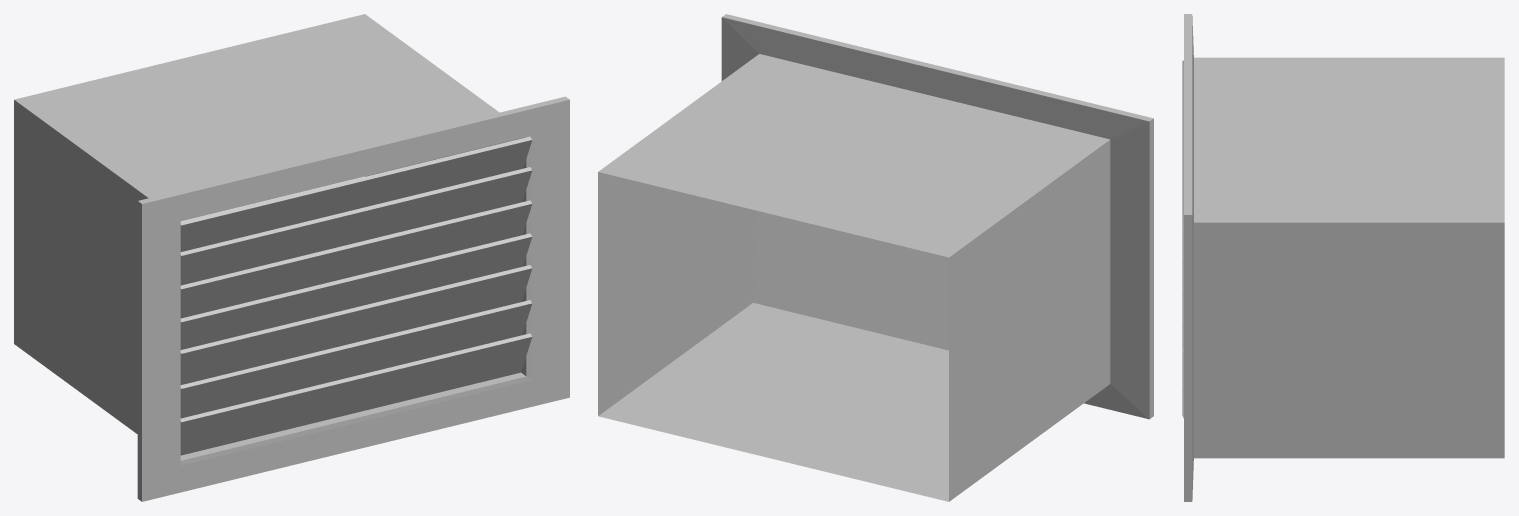
File: SM_Airing_01.FBX
The picture shows the model from 3 angles, left to right: view 1: azimuth 30°, elevation 25°; view 2: azimuth 150°, elevation 25°; view 3: azimuth 270°, elevation 25°; orthographic projection. The views are drawn at different scales.
Parts seen in each view (by area): view 1: SM_Airing_01; view 2: SM_Airing_01; view 3: SM_Airing_01.
Boxes of the visible parts, box(x1,y1,x2,y2) form: SM_Airing_01: box(14, 14, 569, 501); SM_Airing_01: box(598, 14, 1153, 501); SM_Airing_01: box(1182, 14, 1504, 501).
Size of the model in its own units: 60.94 by 41.3 by 40.55.
